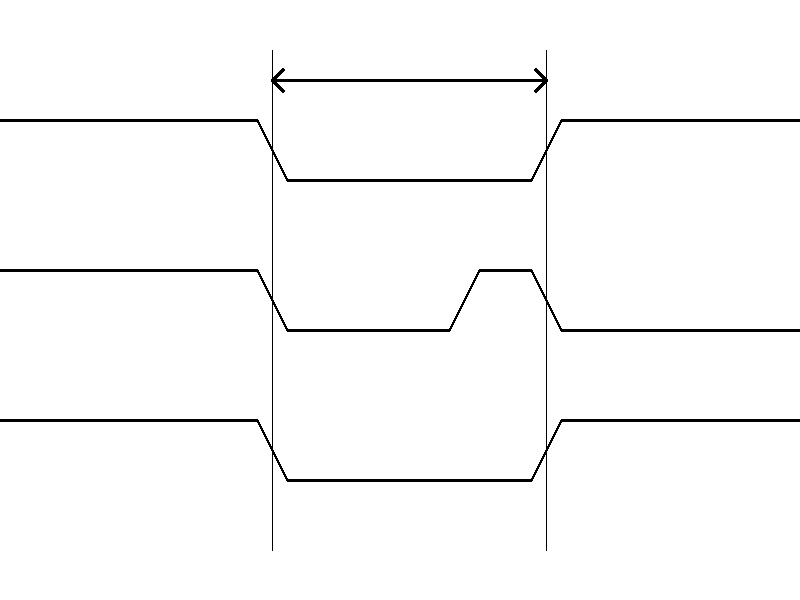double_arrow: (272, 65, 546, 95)
